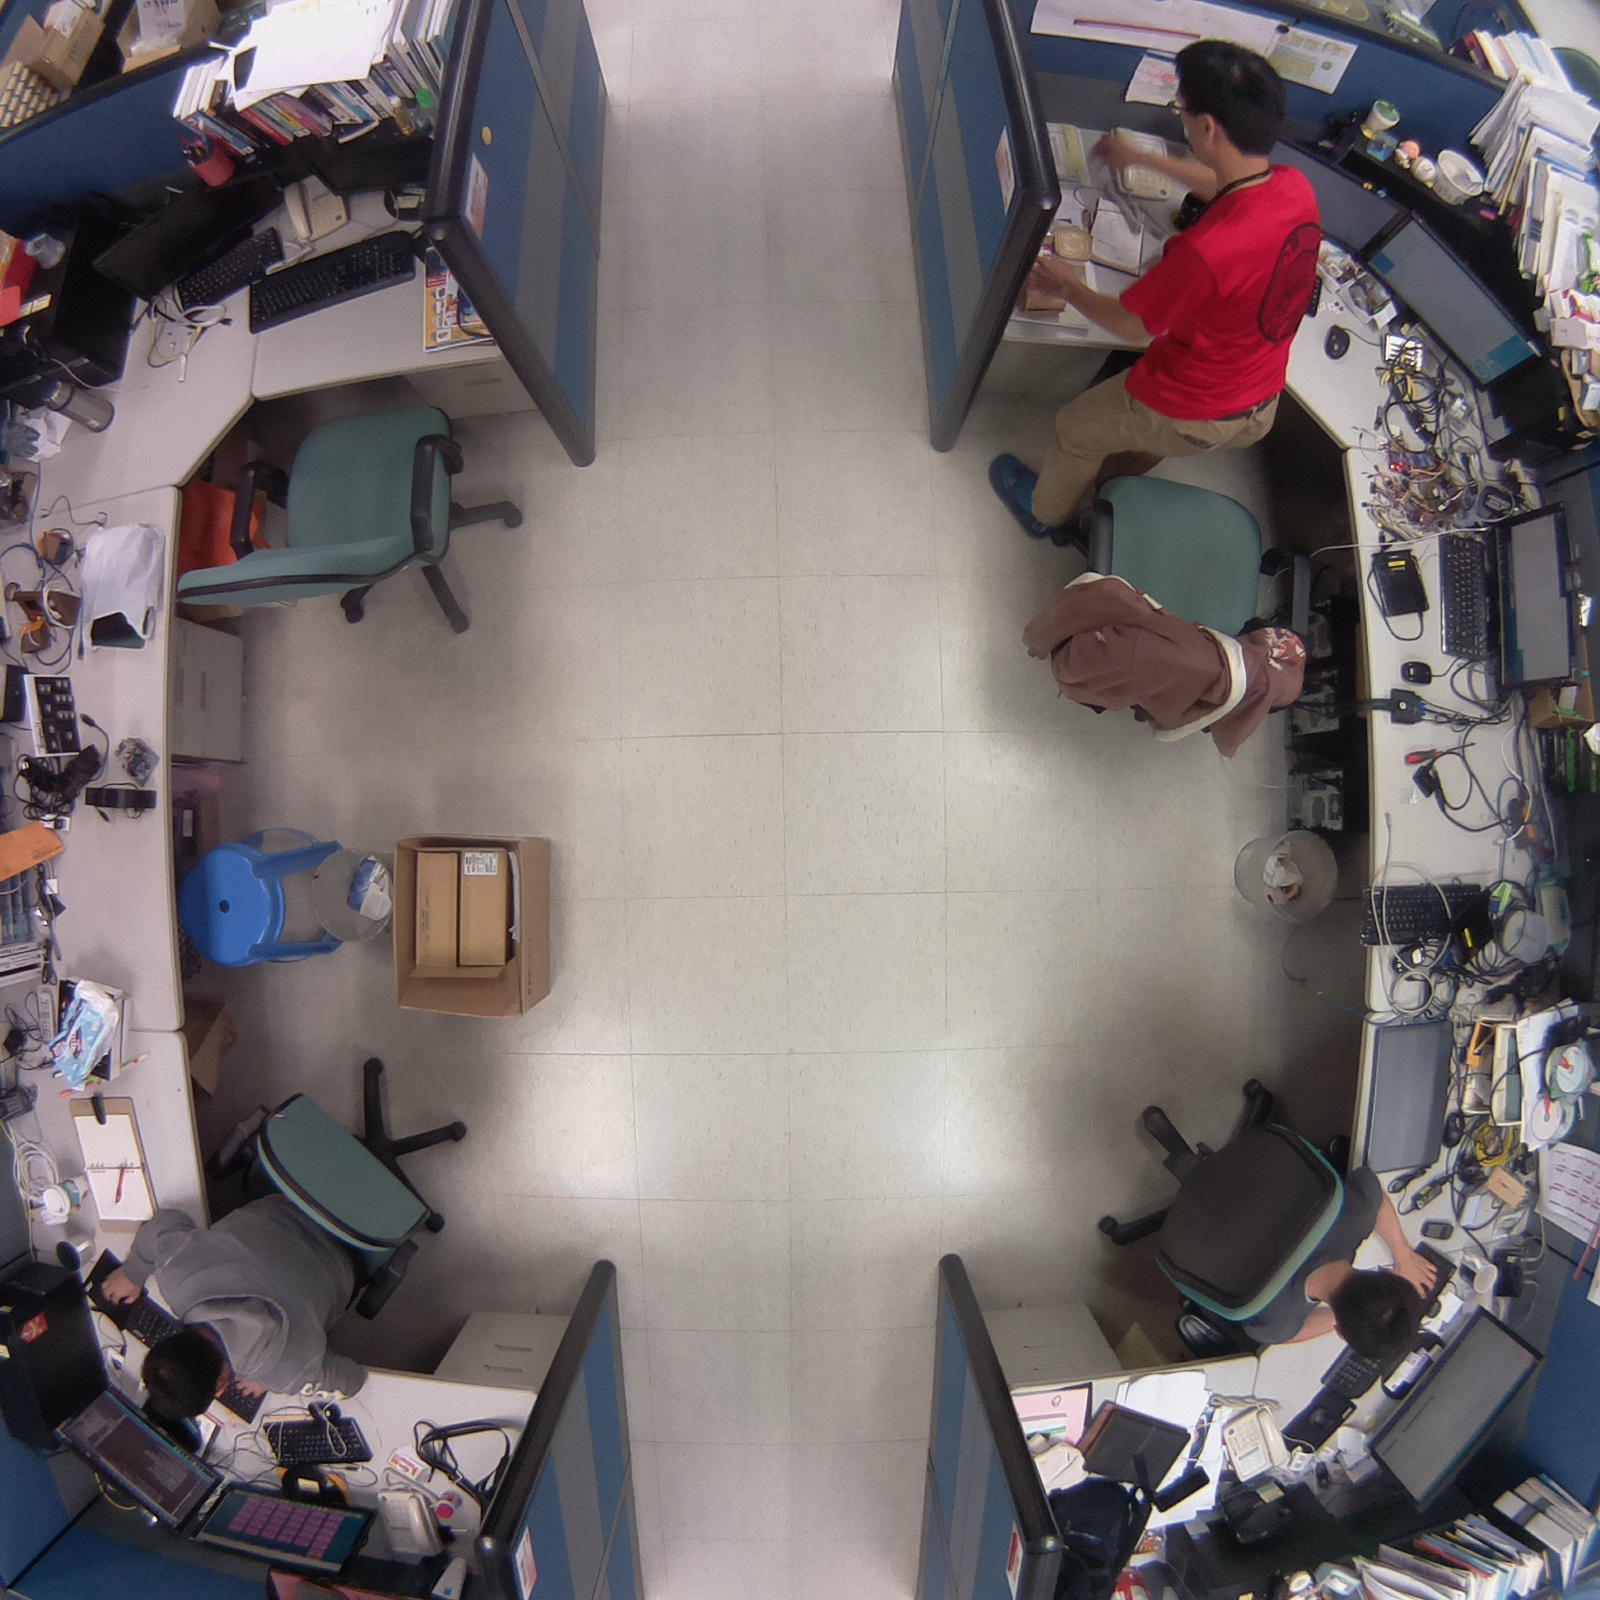chair: (158, 358, 545, 650), (999, 460, 1312, 765)
head: (1164, 35, 1294, 167), (1329, 1265, 1431, 1369), (135, 1325, 233, 1427)
sitting: (86, 1047, 494, 1437), (1081, 1063, 1447, 1375)
standing: (973, 32, 1335, 550)
